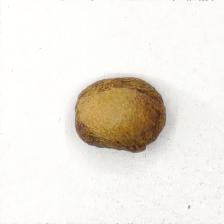NG: (82, 124, 113, 150)
